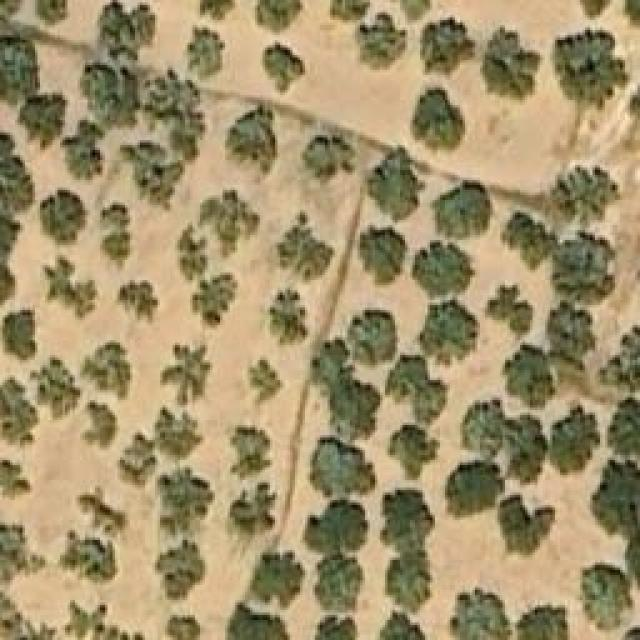Tree: (313, 340, 383, 443), (380, 490, 435, 613), (143, 65, 206, 165), (553, 30, 628, 110), (380, 353, 450, 426), (478, 25, 543, 103), (120, 140, 188, 210), (550, 230, 615, 303), (157, 460, 215, 540), (198, 190, 261, 260), (307, 438, 375, 501), (420, 300, 478, 368), (80, 65, 140, 130), (367, 155, 425, 220), (410, 85, 465, 153), (548, 405, 601, 475), (413, 240, 476, 298), (53, 530, 118, 585), (588, 460, 640, 527), (500, 495, 555, 558), (500, 348, 555, 411), (160, 343, 213, 408), (303, 500, 368, 553), (575, 565, 631, 626), (30, 355, 80, 423), (228, 105, 278, 173), (447, 460, 505, 518), (45, 258, 98, 321), (543, 308, 596, 371), (0, 123, 35, 216), (97, 0, 155, 55), (355, 13, 408, 73), (153, 543, 206, 603), (550, 168, 610, 221), (500, 420, 549, 483), (438, 180, 491, 238), (388, 422, 441, 480), (278, 225, 333, 280), (450, 587, 507, 640), (420, 18, 470, 78), (345, 310, 395, 370), (313, 555, 363, 615), (0, 35, 40, 108), (83, 340, 133, 398), (153, 407, 203, 465), (0, 375, 38, 450), (597, 327, 640, 392), (460, 397, 507, 456), (253, 553, 303, 606), (40, 190, 88, 245), (190, 273, 238, 328), (230, 480, 278, 535), (60, 125, 105, 183), (360, 228, 405, 283), (485, 283, 533, 333), (18, 93, 64, 145), (260, 43, 305, 96), (303, 133, 348, 186), (230, 425, 273, 480), (268, 290, 308, 348), (118, 430, 158, 488), (98, 203, 133, 268), (605, 398, 640, 461), (185, 25, 225, 80), (0, 212, 22, 309), (230, 605, 288, 640), (0, 310, 38, 363), (518, 602, 571, 640), (175, 225, 208, 285), (508, 215, 548, 263), (248, 355, 283, 408), (83, 402, 118, 450), (255, 0, 303, 35), (0, 530, 28, 588), (375, 612, 430, 640), (118, 280, 158, 318), (0, 457, 32, 500), (313, 615, 358, 640), (0, 592, 22, 639), (162, 615, 200, 640), (329, 0, 372, 22), (38, 0, 74, 25), (390, 0, 433, 20), (190, 0, 233, 20), (622, 530, 640, 575), (578, 0, 618, 20), (625, 0, 640, 35), (617, 622, 640, 639)
